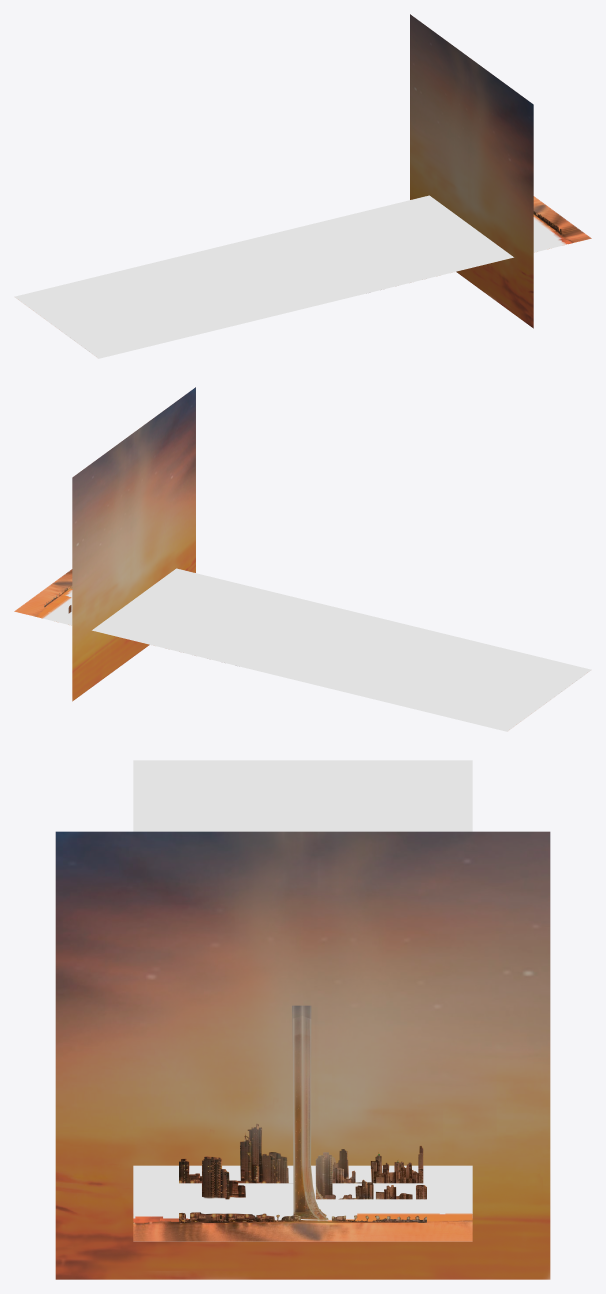
The model's file is RA_Predio2.glb.
3 views of the same model, one above another, from view 1: azimuth 30°, elevation 25°; view 2: azimuth 150°, elevation 25°; view 3: azimuth 270°, elevation 25° (orthographic). The views are drawn at different scales.
Visible parts, largest first — view 1: Mar, Fundo; view 2: Mar, Fundo; view 3: Fundo, Mar, Torre, PrediosFundo2, PrediosFundo1, 1Plano.
Boxes of the visible parts, x1,y1,x2,y2 form: Mar: (14,195,591,358); Fundo: (410,14,533,328); Mar: (14,568,591,731); Fundo: (72,387,195,701); Fundo: (55,831,550,1279); Mar: (133,760,472,1241); Torre: (292,1005,328,1219); PrediosFundo2: (179,1123,423,1183); PrediosFundo1: (202,1152,426,1199); 1Plano: (179,1212,426,1222).
Bounding box in the file's own units: 9.19 × 3.99 × 3.99.
6 materials, 6 textured.
